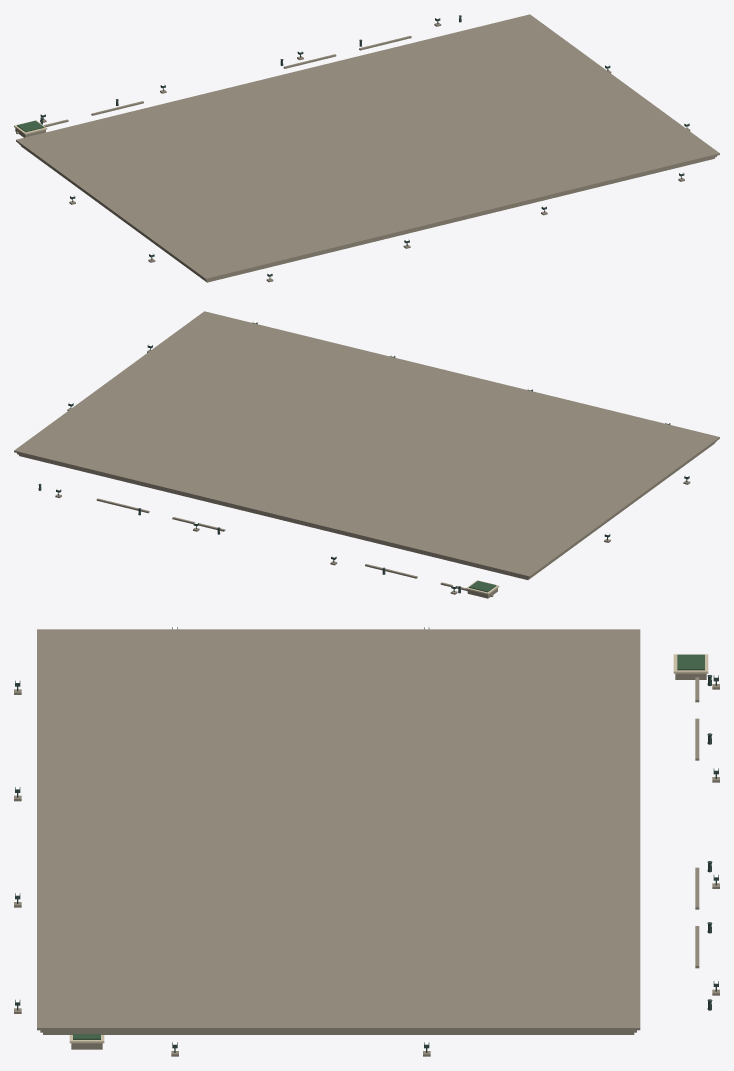
Rendered from KOL_T1_METROPOLITAN__09_Foundation_Detail.fbx.
3 renders of one model, top to bottom at view 1: azimuth 30°, elevation 25°; view 2: azimuth 150°, elevation 25°; view 3: azimuth 270°, elevation 25°, orthographic. The views are drawn at different scales.
Visible parts, largest first — view 1: KOL_T1_METROPOLITAN__09_Foundation_Detail__KOL_T1_HeritageSt; view 2: KOL_T1_METROPOLITAN__09_Foundation_Detail__KOL_T1_HeritageSt; view 3: KOL_T1_METROPOLITAN__09_Foundation_Detail__KOL_T1_HeritageSt, KOL_T1_METROPOLITAN__09_Foundation_Detail__KOL_T1_HeritageIr.
Boxes of the visible parts, left/top/right/bottom form: KOL_T1_METROPOLITAN__09_Foundation_Detail__KOL_T1_HeritageSt: left=15, top=14, right=719, bottom=282; KOL_T1_METROPOLITAN__09_Foundation_Detail__KOL_T1_HeritageSt: left=14, top=311, right=719, bottom=598; KOL_T1_METROPOLITAN__09_Foundation_Detail__KOL_T1_HeritageSt: left=14, top=629, right=719, bottom=1056; KOL_T1_METROPOLITAN__09_Foundation_Detail__KOL_T1_HeritageIr: left=15, top=627, right=718, bottom=1052.
Bounding box in the file's own units: 157 × 3.33 × 112.
